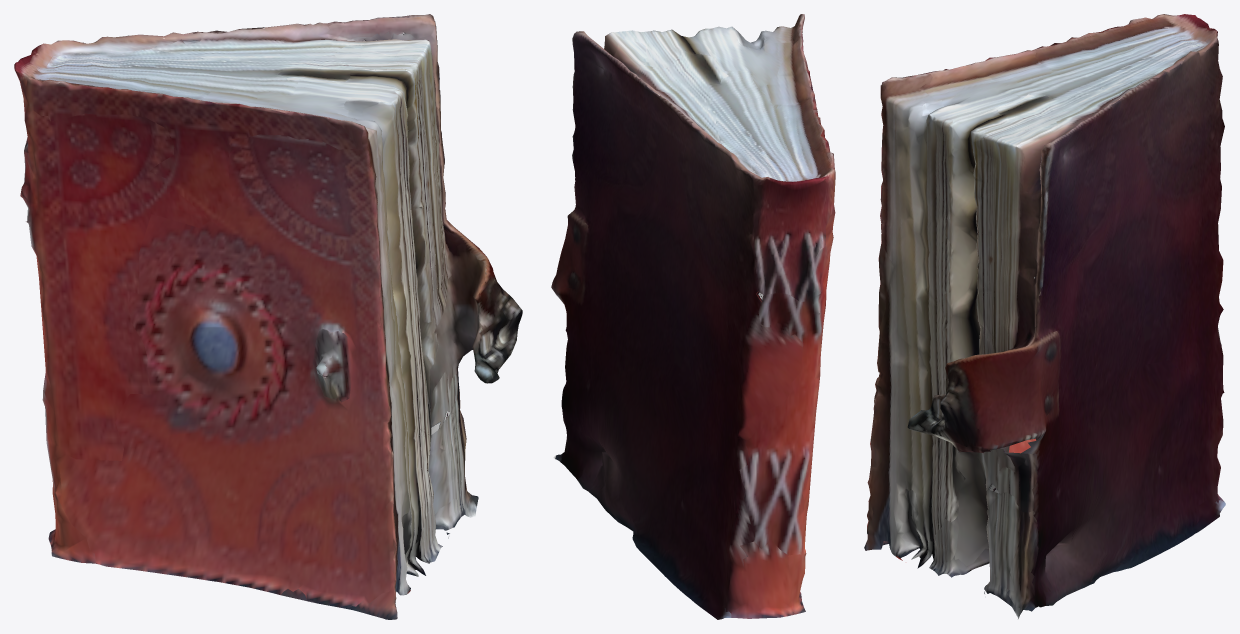
Rendered from Diary.glb.
The picture shows the model from 3 angles, left to right: view 1: azimuth 30°, elevation 25°; view 2: azimuth 150°, elevation 25°; view 3: azimuth 270°, elevation 25°; orthographic projection. The views are drawn at different scales.
Visible parts, largest first — view 1: mesh; view 2: mesh; view 3: mesh.
Part boxes in pixels (x1,y1,x2,y2): mesh: (14, 14, 522, 619); mesh: (551, 14, 835, 619); mesh: (864, 14, 1225, 618).
Bounding box in the file's own units: 0.1459 × 0.1827 × 0.1244.
1 material, 1 textured.
